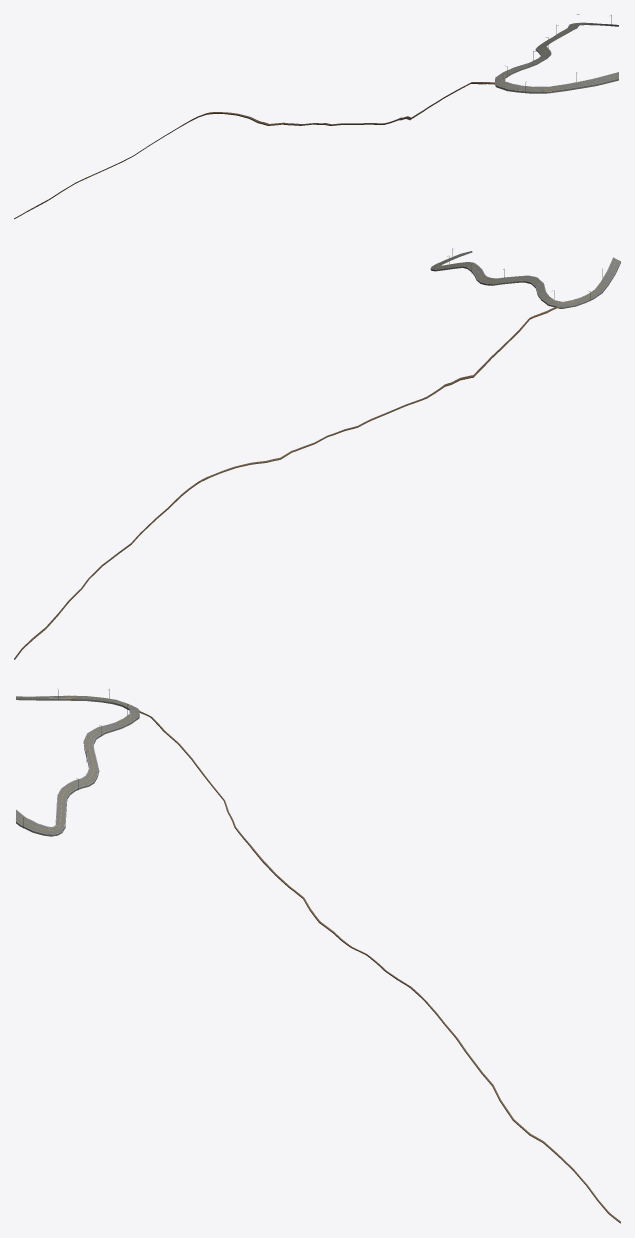
3 views of the same model, one above another, from view 1: azimuth 90°, elevation 25°; view 2: azimuth 150°, elevation 25°; view 3: azimuth 270°, elevation 25° (orthographic). The views are drawn at different scales.
Bounding box in the file's own units: 295 × 234 × 377.
